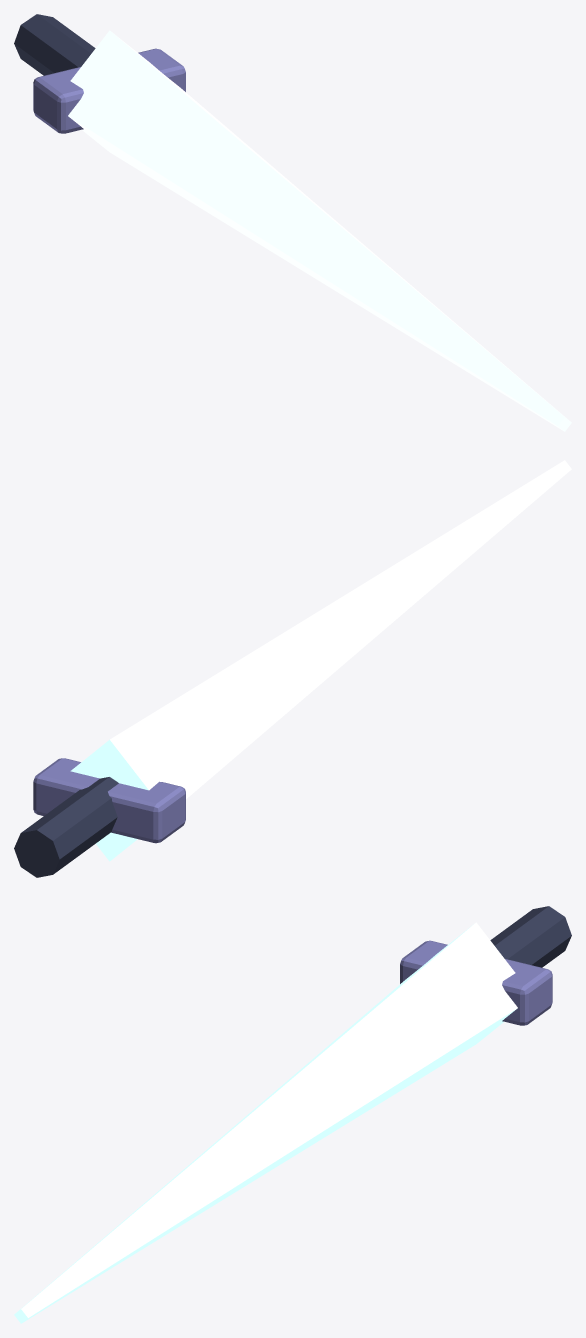
The model's file is SM_Yasuo_Katana.fbx.
3 renders of one model, top to bottom at view 1: azimuth 30°, elevation 25°; view 2: azimuth 150°, elevation 25°; view 3: azimuth 330°, elevation 25°, orthographic.
Visible parts, largest first — view 1: SM_Yasuo_Katana; view 2: SM_Yasuo_Katana; view 3: SM_Yasuo_Katana.
Boxes of the visible parts, x1=… form: SM_Yasuo_Katana: x1=14, y1=14, x2=571, y2=431; SM_Yasuo_Katana: x1=14, y1=460, x2=571, y2=877; SM_Yasuo_Katana: x1=14, y1=906, x2=571, y2=1323.
Bounding box in the file's own units: 16.28 × 116 × 14.8.
